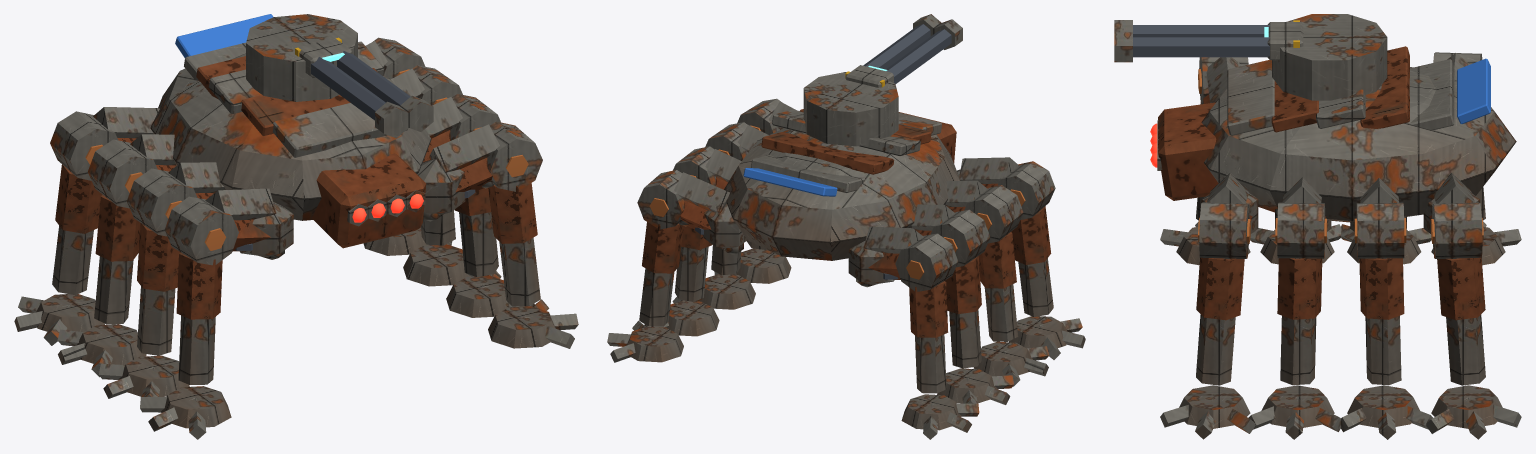
Rendered from octopode.glb.
The picture shows the model from 3 angles, left to right: view 1: azimuth 30°, elevation 25°; view 2: azimuth 150°, elevation 25°; view 3: azimuth 270°, elevation 25°; orthographic projection. The views are drawn at different scales.
Parts seen in each view (by area): view 1: octopode, zshin_0_l, zshin_0_r, zleg_0_l, zleg_0_r, zshin_2_l, zshin_3_l, zshin_1_l, zshin_1_r, zleg_3_l, zleg_1_l, zleg_2_l (+5 smaller); view 2: octopode, zshin_3_l, zshin_3_r, zleg_3_l, zshin_1_l, zshin_0_l, zshin_2_l, zleg_3_r, zshin_2_r, zleg_0_l, zleg_1_l, zleg_2_l (+5 smaller); view 3: octopode, zshin_3_r, zshin_0_r, zshin_1_r, zshin_2_r, zleg_0_r, zleg_3_r, zleg_1_r, zleg_2_r, zleg_0_l, zshin_3_l, zshin_0_l (+3 smaller).
Part boxes in pixels (x1,y1,x2,y2): octopode: [150, 14, 433, 248]; zshin_0_l: [140, 252, 231, 439]; zshin_0_r: [488, 183, 578, 348]; zleg_0_l: [165, 188, 293, 265]; zleg_0_r: [417, 121, 542, 221]; zshin_2_l: [57, 194, 146, 377]; zshin_3_l: [14, 164, 104, 345]; zshin_1_l: [99, 223, 189, 398]; zshin_1_r: [446, 188, 534, 317]; zleg_3_l: [50, 107, 159, 180]; zleg_1_l: [126, 162, 224, 236]; zleg_2_l: [88, 134, 176, 208]; octopode: [724, 14, 962, 260]; zshin_3_l: [901, 281, 979, 439]; zshin_3_r: [607, 222, 683, 362]; zleg_3_l: [848, 226, 958, 291]; zshin_1_l: [973, 232, 1049, 386]; zshin_0_l: [1009, 206, 1085, 359]; zshin_2_l: [937, 256, 1013, 404]; zleg_3_r: [637, 170, 747, 254]; zshin_2_r: [644, 226, 719, 336]; zleg_0_l: [957, 157, 1055, 219]; zleg_1_l: [945, 180, 1023, 243]; zleg_2_l: [911, 204, 990, 267]; octopode: [1114, 14, 1516, 222]; zshin_3_r: [1426, 257, 1521, 439]; zshin_0_r: [1160, 257, 1255, 439]; zshin_1_r: [1248, 258, 1340, 439]; zshin_2_r: [1341, 258, 1432, 439]; zleg_0_r: [1198, 172, 1258, 258]; zleg_3_r: [1423, 173, 1483, 258]; zleg_1_r: [1275, 177, 1331, 258]; zleg_2_r: [1350, 178, 1406, 258]; zleg_0_l: [1198, 57, 1248, 104]; zshin_3_l: [1431, 187, 1521, 265]; zshin_0_l: [1160, 101, 1250, 265].
Bounding box in the file's own units: 2.23 × 1.54 × 1.84.
Materials: 10 (2 with a texture image).
